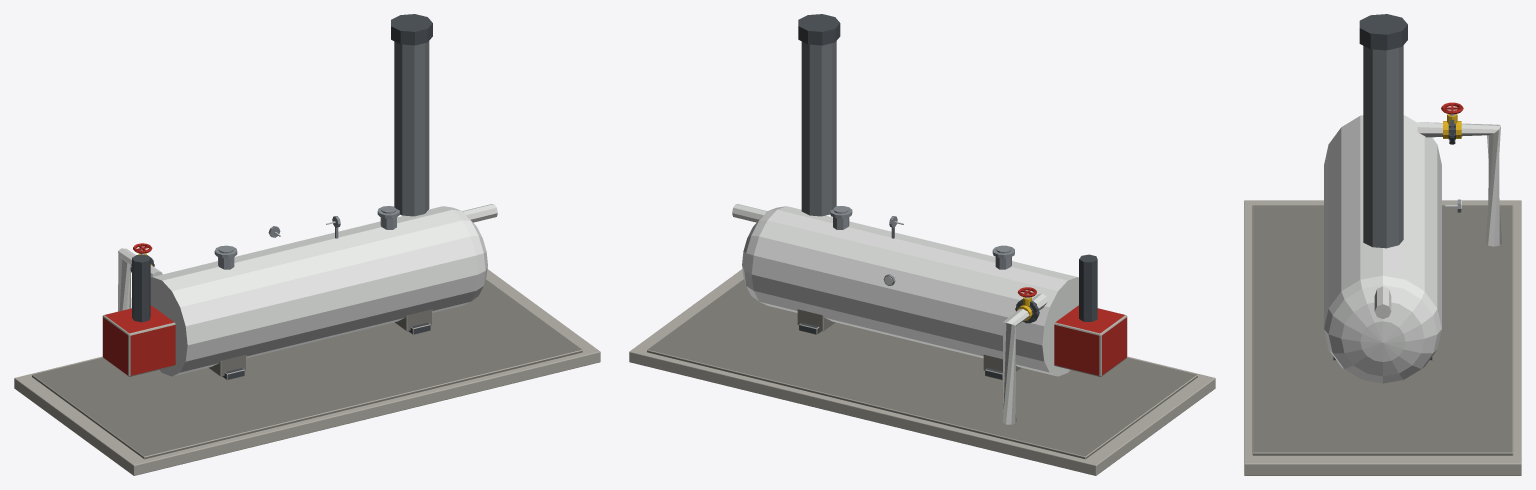
File: on_heater_treater.glb
3 renders of one model, left to right at view 1: azimuth 30°, elevation 25°; view 2: azimuth 150°, elevation 25°; view 3: azimuth 270°, elevation 25°, orthographic. The views are drawn at different scales.
Visible parts, largest first — view 1: on_heater_treater; view 2: on_heater_treater; view 3: on_heater_treater.
Part boxes in pixels (<box>): on_heater_treater: <box>14,14,600,475</box>; on_heater_treater: <box>629,14,1215,475</box>; on_heater_treater: <box>1244,14,1521,475</box>.
Bounding box in the file's own units: 9 × 6.03 × 4.
